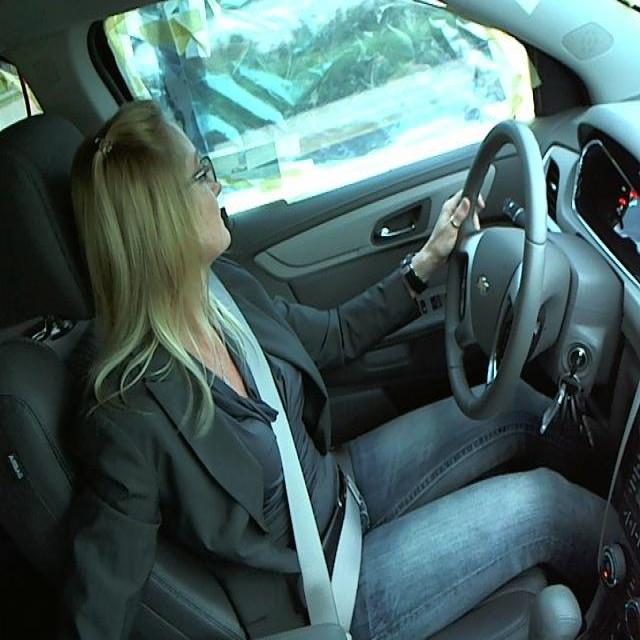seatbelt: (199, 291, 376, 617)
